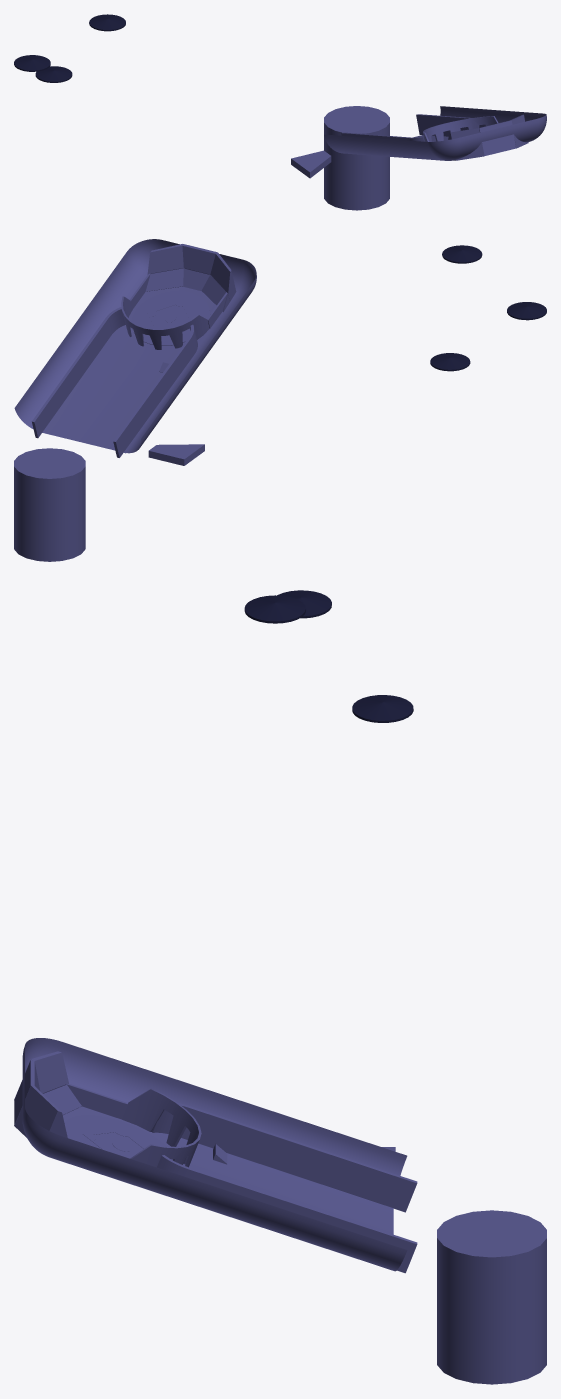
Rendered from testField02.FBX.
3 renders of one model, top to bottom at view 1: azimuth 30°, elevation 25°; view 2: azimuth 150°, elevation 25°; view 3: azimuth 270°, elevation 25°, orthographic. The views are drawn at different scales.
Visible parts, largest first — view 1: Cylinder001, ChamferBox001, Circle003, Box001, Box004, Line002, ufo003, ufo01, ufo002, Box008, Line001; view 2: ChamferBox001, Cylinder001, Line002, Circle001, Line001, Box007, Circle003, Box004, Box008, Box001, ufo003, ufo002 (+1 smaller); view 3: ChamferBox001, Cylinder001, Line001, Circle003, Line002, Circle001, Box008, ufo003, ufo002, Box007, Box010.
Part boxes in pixels (x1,y1,x2,y2): Cylinder001: (324,106,389,210); ChamferBox001: (324,106,546,160); Circle003: (423,116,498,141); Box001: (291,150,331,178); Box004: (479,120,516,155); Line002: (416,114,485,136); ufo003: (89,14,125,31); ufo01: (14,55,50,71); ufo002: (35,66,72,82); Box008: (448,128,484,160); Line001: (341,132,424,141); ChamferBox001: (14,239,256,453); Cylinder001: (14,448,85,561); Line002: (32,307,125,438); Circle001: (131,290,210,345); Line001: (113,324,197,457); Box007: (145,244,184,291); Circle003: (121,296,209,349); Box004: (182,244,217,291); Box008: (201,252,236,311); Box001: (148,444,204,465); ufo003: (442,245,482,263); ufo002: (430,353,470,371); ChamferBox001: (22,1038,407,1271); Cylinder001: (437,1210,546,1384); Line001: (151,1103,417,1212); Circle003: (122,1088,201,1167); Line002: (157,1155,417,1273); Circle001: (64,1114,172,1159); Box008: (14,1051,81,1114); ufo003: (244,595,305,623); ufo002: (352,695,413,722); Box007: (14,1085,67,1137); Box010: (66,1083,127,1119).
Size of the model in its own units: 78.56 by 49.74 by 47.79.
